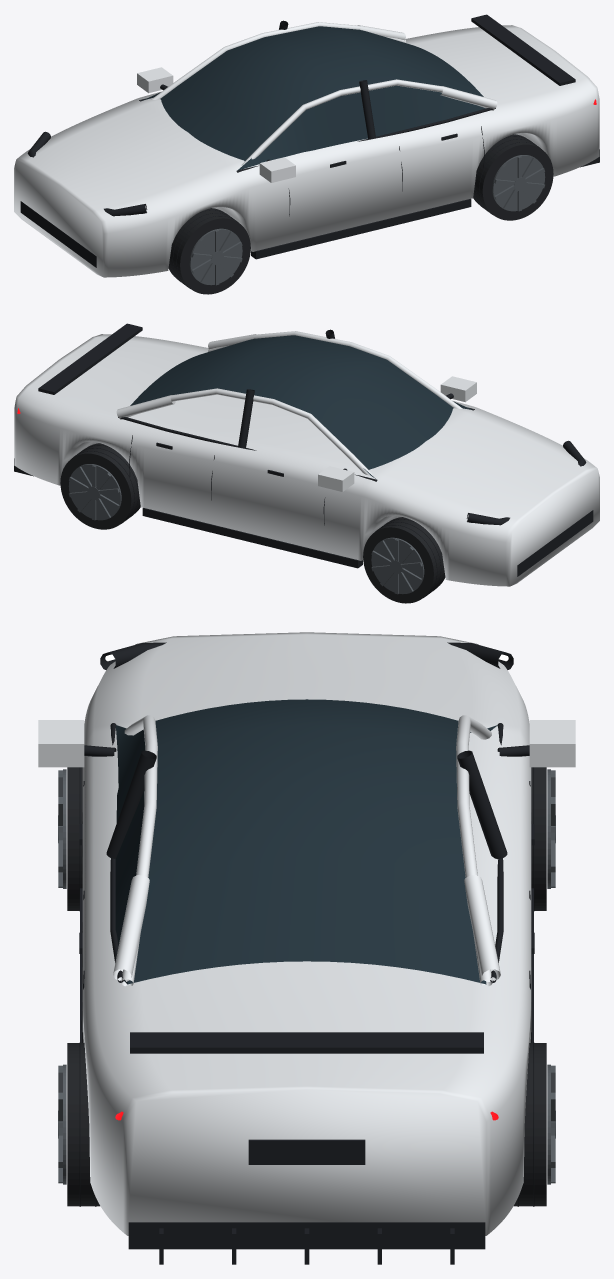
File: Tesla_Model3.glb
3 views of the same model, one above another, from view 1: azimuth 30°, elevation 25°; view 2: azimuth 150°, elevation 25°; view 3: azimuth 270°, elevation 25° (orthographic). The views are drawn at different scales.
Visible parts, largest first — view 1: Carroceria, Techo panoramico y parabrisas, Ventanillas -1, Rueda delantera-1, Rueda trasera-1, Faldon lateral, Aleron discreto, Marco superior, Llanta, Llanta.002, Marco superior.001, Entrada de aire frontal (+5 smaller); view 2: Carroceria, Techo panoramico y parabrisas, Rueda delantera1, Rueda trasera1, Faldon lateral.001, Aleron discreto, Marco superior.001, Llanta.001, Llanta.003, Marco superior, Entrada de aire frontal, Retrovisor.001 (+4 smaller); view 3: Carroceria, Techo panoramico y parabrisas, Difusor trasero, Aleron discreto, Rueda trasera-1, Rueda trasera1, Ventanillas -1, Matricula trasera, Marco superior.001, Marco superior, Retrovisor, Retrovisor.001 (+7 smaller).
Part boxes in pixels (<box>): Carroceria: <box>14,25,599,277</box>; Techo panoramico y parabrisas: <box>160,26,483,160</box>; Ventanillas -1: <box>237,85,485,170</box>; Rueda delantera-1: <box>168,208,250,294</box>; Rueda trasera-1: <box>473,134,553,220</box>; Faldon lateral: <box>251,199,471,259</box>; Aleron discreto: <box>471,14,575,85</box>; Marco superior: <box>241,79,494,165</box>; Llanta: <box>189,228,242,285</box>; Llanta.002: <box>492,155,545,211</box>; Marco superior.001: <box>151,22,405,99</box>; Entrada de aire frontal: <box>20,201,96,267</box>; Carroceria: <box>14,334,599,586</box>; Techo panoramico y parabrisas: <box>130,335,453,469</box>; Rueda delantera1: <box>363,517,445,603</box>; Rueda trasera1: <box>60,443,140,529</box>; Faldon lateral.001: <box>142,508,362,568</box>; Aleron discreto: <box>38,323,142,394</box>; Marco superior.001: <box>119,388,372,475</box>; Llanta.001: <box>371,537,424,594</box>; Llanta.003: <box>68,464,121,520</box>; Marco superior: <box>208,331,462,408</box>; Entrada de aire frontal: <box>517,510,593,576</box>; Retrovisor.001: <box>318,466,354,491</box>; Carroceria: <box>82,632,531,1235</box>; Techo panoramico y parabrisas: <box>127,699,486,984</box>; Difusor trasero: <box>128,1222,485,1249</box>; Aleron discreto: <box>130,1032,483,1053</box>; Rueda trasera-1: <box>67,1043,99,1206</box>; Rueda trasera1: <box>514,1043,546,1206</box>; Ventanillas -1: <box>115,725,145,983</box>; Matricula trasera: <box>248,1139,365,1164</box>; Marco superior.001: <box>456,715,492,986</box>; Marco superior: <box>121,715,157,986</box>; Retrovisor: <box>38,720,84,767</box>; Retrovisor.001: <box>529,720,575,767</box>.
Size of the model in its own units: 4.78 by 1.46 by 2.21.
